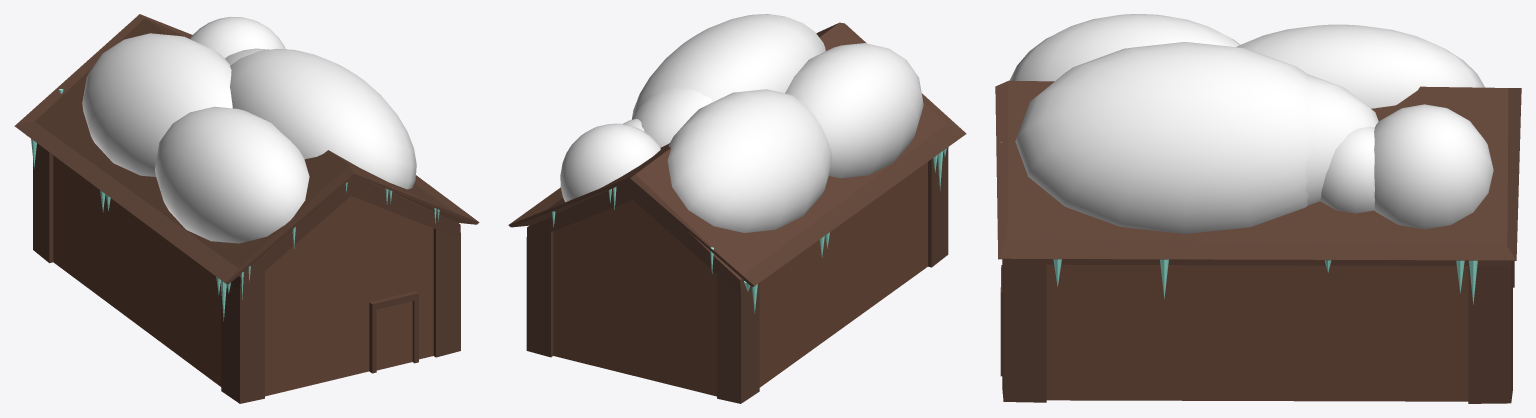
The model's file is BigHouseSnowStorm.fbx.
The picture shows the model from 3 angles, left to right: view 1: azimuth 30°, elevation 25°; view 2: azimuth 150°, elevation 25°; view 3: azimuth 270°, elevation 25°; orthographic projection. The views are drawn at different scales.
Parts seen in each view (by area): view 1: BigHouseSnowStorm; view 2: BigHouseSnowStorm; view 3: BigHouseSnowStorm.
Boxes of the visible parts, bbox=[...] form: BigHouseSnowStorm: bbox=[14, 14, 479, 403]; BigHouseSnowStorm: bbox=[508, 14, 966, 403]; BigHouseSnowStorm: bbox=[995, 14, 1521, 403].
Bounding box in the file's own units: 10.75 × 15.78 × 9.96.
